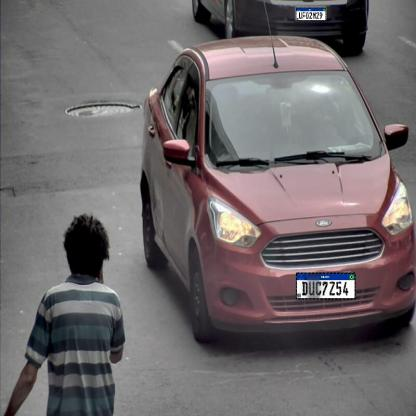PlacaM: (296, 272, 356, 300), (296, 7, 326, 20)
